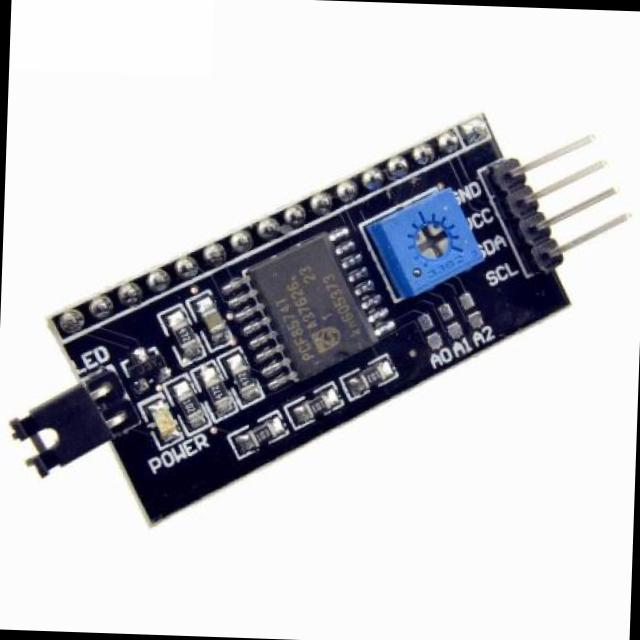IC: (244, 227, 384, 362)
LED: (146, 396, 178, 442)
capacitor: (194, 300, 230, 339)
connector: (493, 124, 640, 281), (3, 364, 136, 479)
potentiometer: (374, 182, 488, 284)
resistor: (164, 313, 200, 354), (298, 386, 334, 426), (228, 356, 260, 400), (243, 416, 280, 452), (356, 357, 392, 392), (201, 372, 233, 409), (179, 387, 206, 429)
transistor: (120, 348, 165, 390)
